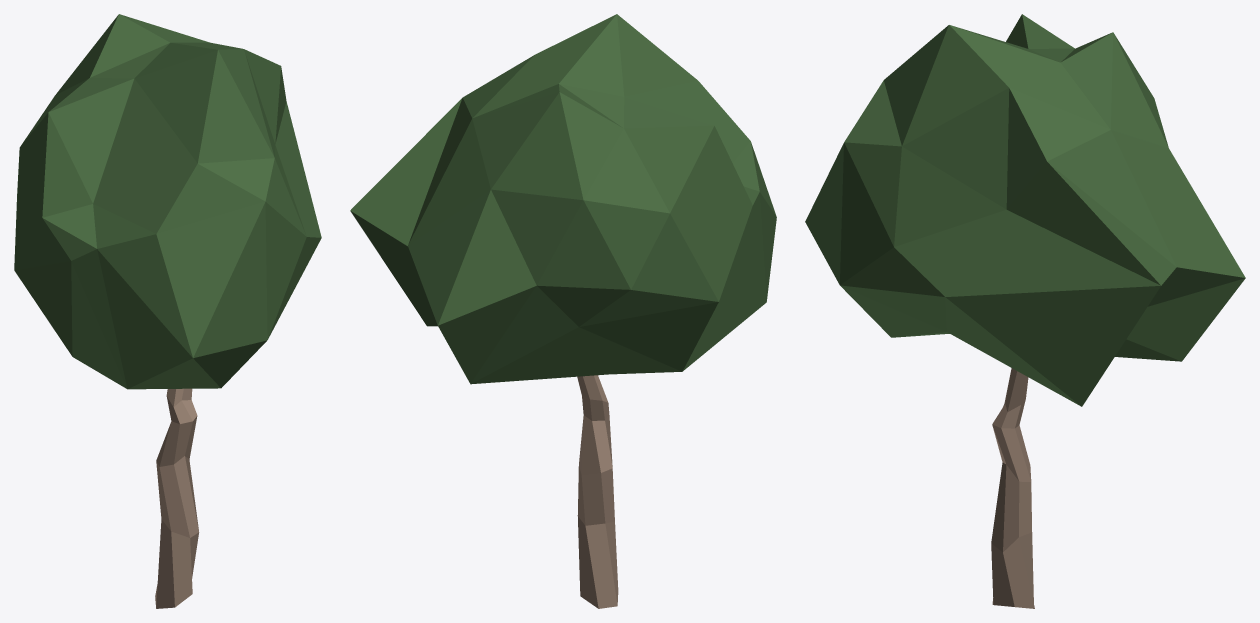
The model's file is tree5.fbx.
3 renders of one model, left to right at view 1: azimuth 30°, elevation 25°; view 2: azimuth 150°, elevation 25°; view 3: azimuth 270°, elevation 25°, orthographic. The views are drawn at different scales.
Visible parts, largest first — view 1: Icosphere, Tree; view 2: Icosphere, Tree; view 3: Icosphere, Tree.
Boxes of the visible parts, x1=… form: Icosphere: x1=14, y1=14, x2=321, y2=389; Tree: x1=155, y1=388, x2=199, y2=608; Icosphere: x1=350, y1=14, x2=776, y2=384; Tree: x1=577, y1=375, x2=618, y2=608; Icosphere: x1=805, y1=14, x2=1245, y2=406; Tree: x1=991, y1=368, x2=1034, y2=608.
Size of the model in its own units: 361 by 604 by 404.
